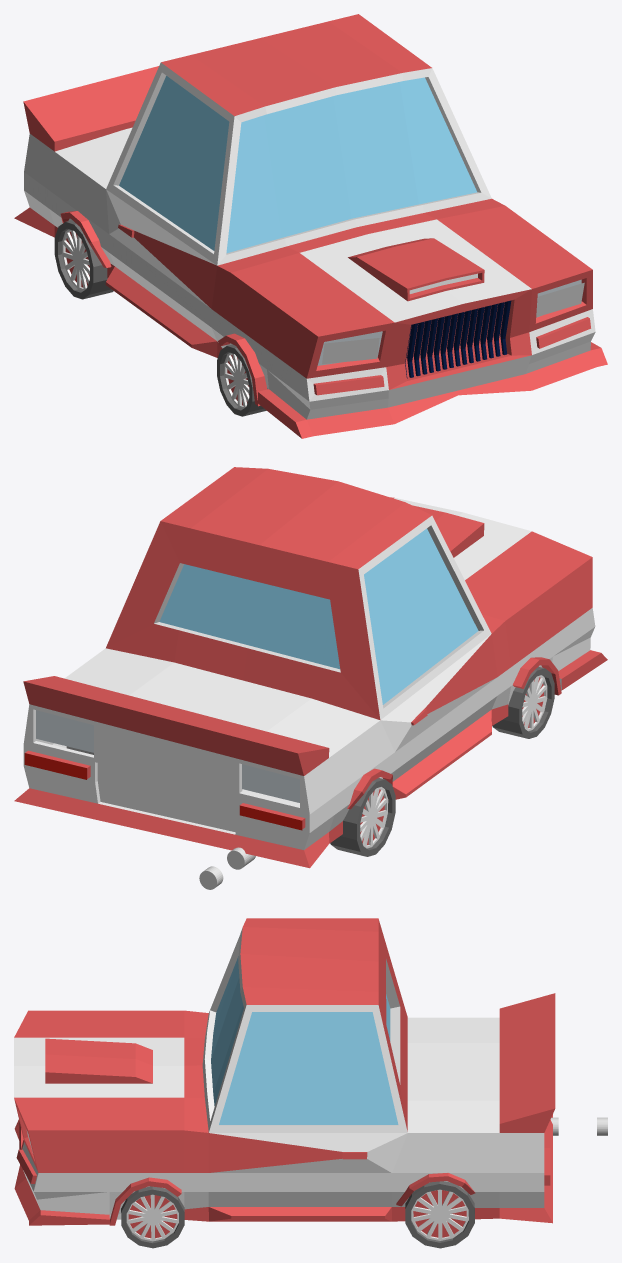
Rendered from Low-Poly-Racing-Car.glb.
3 renders of one model, top to bottom at view 1: azimuth 30°, elevation 25°; view 2: azimuth 150°, elevation 25°; view 3: azimuth 270°, elevation 25°, orthographic. The views are drawn at different scales.
Visible parts, largest first — view 1: body, lattice.1, 2wheel, 0wheel, lightFrontLeft, front_fender, lightFrontRight, rear_fender, headlight; view 2: body, 2wheel, backlight, 0wheel, lightBrakeLeft, front_fender, lightBrakeRight, rear_fender; view 3: body, 3wheel, 1wheel, front_fender, rear_fender.
Part boxes in pixels (<box>): body: <box>14,14,607,438</box>; lattice.1: <box>405,300,511,378</box>; 2wheel: <box>54,220,113,299</box>; 0wheel: <box>217,344,266,416</box>; lightFrontLeft: <box>322,338,379,364</box>; front_fender: <box>218,333,267,406</box>; lightFrontRight: <box>536,282,584,316</box>; rear_fender: <box>60,211,111,267</box>; headlight: <box>317,279,581,365</box>; body: <box>14,467,607,868</box>; 2wheel: <box>330,778,395,856</box>; backlight: <box>36,710,299,802</box>; 0wheel: <box>492,666,554,738</box>; lightBrakeLeft: <box>24,753,86,779</box>; front_fender: <box>513,657,561,695</box>; lightBrakeRight: <box>240,805,302,830</box>; rear_fender: <box>347,768,392,809</box>; body: <box>14,918,555,1225</box>; 3wheel: <box>405,1181,474,1248</box>; 1wheel: <box>121,1186,184,1248</box>; front_fender: <box>109,1177,181,1225</box>; rear_fender: <box>396,1173,475,1206</box>.
Bounding box in the file's own units: 2.48 × 1.97 × 4.67.
